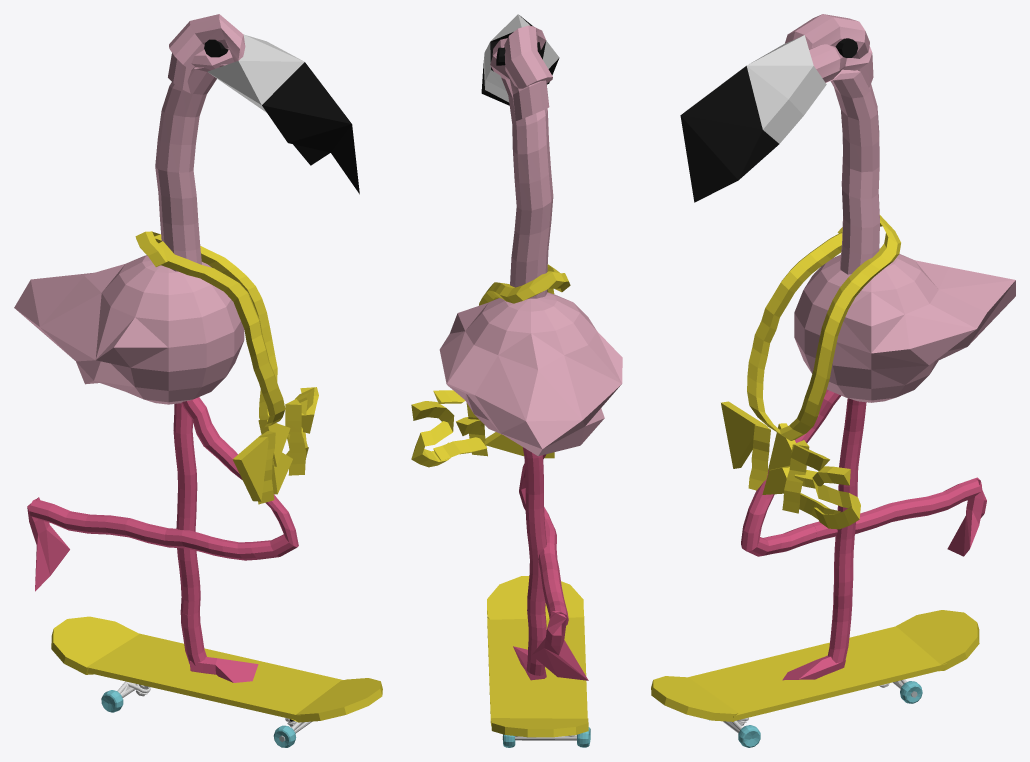
3 views of the same model, side by side, from view 1: azimuth 30°, elevation 25°; view 2: azimuth 150°, elevation 25°; view 3: azimuth 270°, elevation 25° (orthographic). The views are drawn at different scales.
Visible parts, largest first — view 1: node_MeshObject-600591744-PolyPaper3, node_MeshObject-2036870848-PolyPaper21; view 2: node_MeshObject-600591744-PolyPaper3, node_MeshObject-2036870848-PolyPaper21; view 3: node_MeshObject-600591744-PolyPaper3, node_MeshObject-2036870848-PolyPaper21.
Boxes of the visible parts, x1=… form: node_MeshObject-600591744-PolyPaper3: x1=14, y1=14, x2=343, y2=733; node_MeshObject-2036870848-PolyPaper21: x1=155, y1=34, x2=382, y2=747; node_MeshObject-600591744-PolyPaper3: x1=411, y1=25, x2=622, y2=747; node_MeshObject-2036870848-PolyPaper21: x1=481, y1=14, x2=583, y2=675; node_MeshObject-600591744-PolyPaper3: x1=688, y1=14, x2=1015, y2=733; node_MeshObject-2036870848-PolyPaper21: x1=651, y1=35, x2=879, y2=747.
Size of the model in its own units: 0.1382 by 0.3961 by 0.1869.
